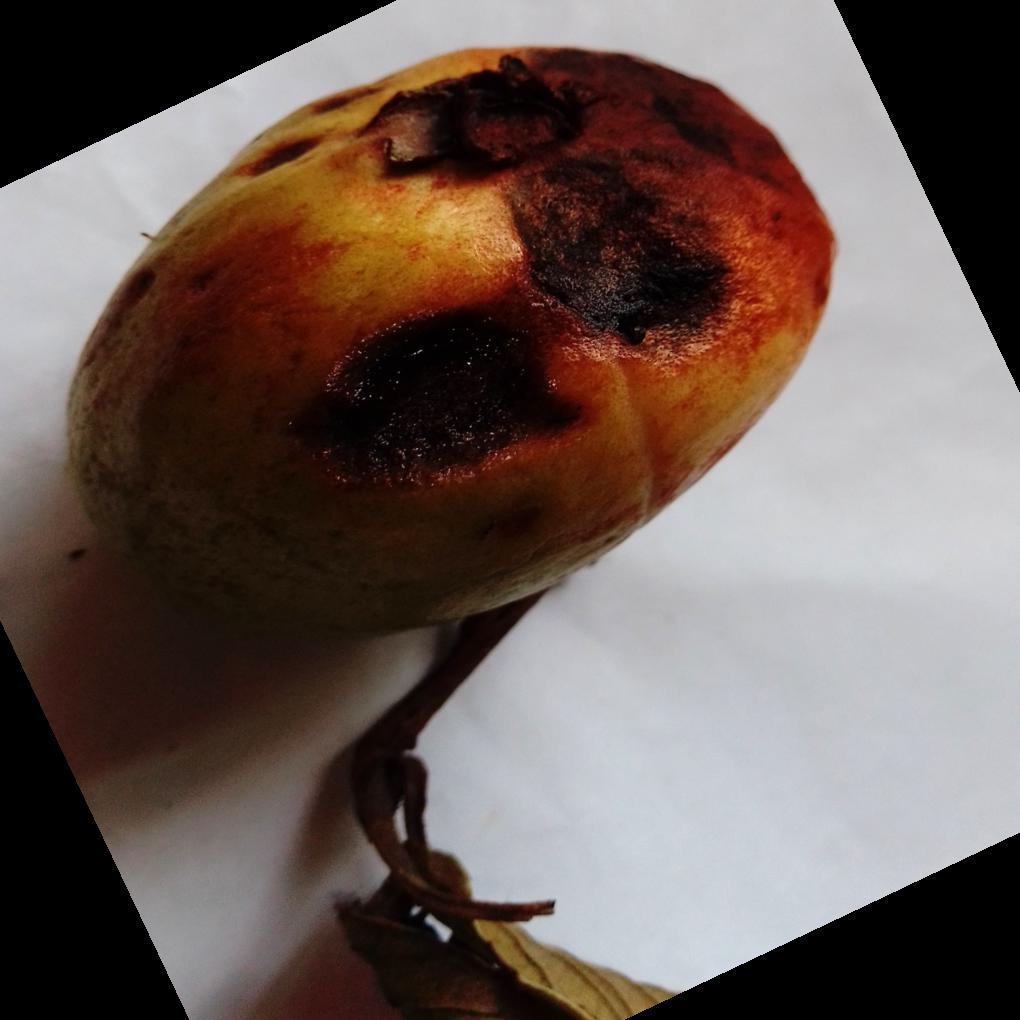FreshOrange: (66, 46, 838, 645)
